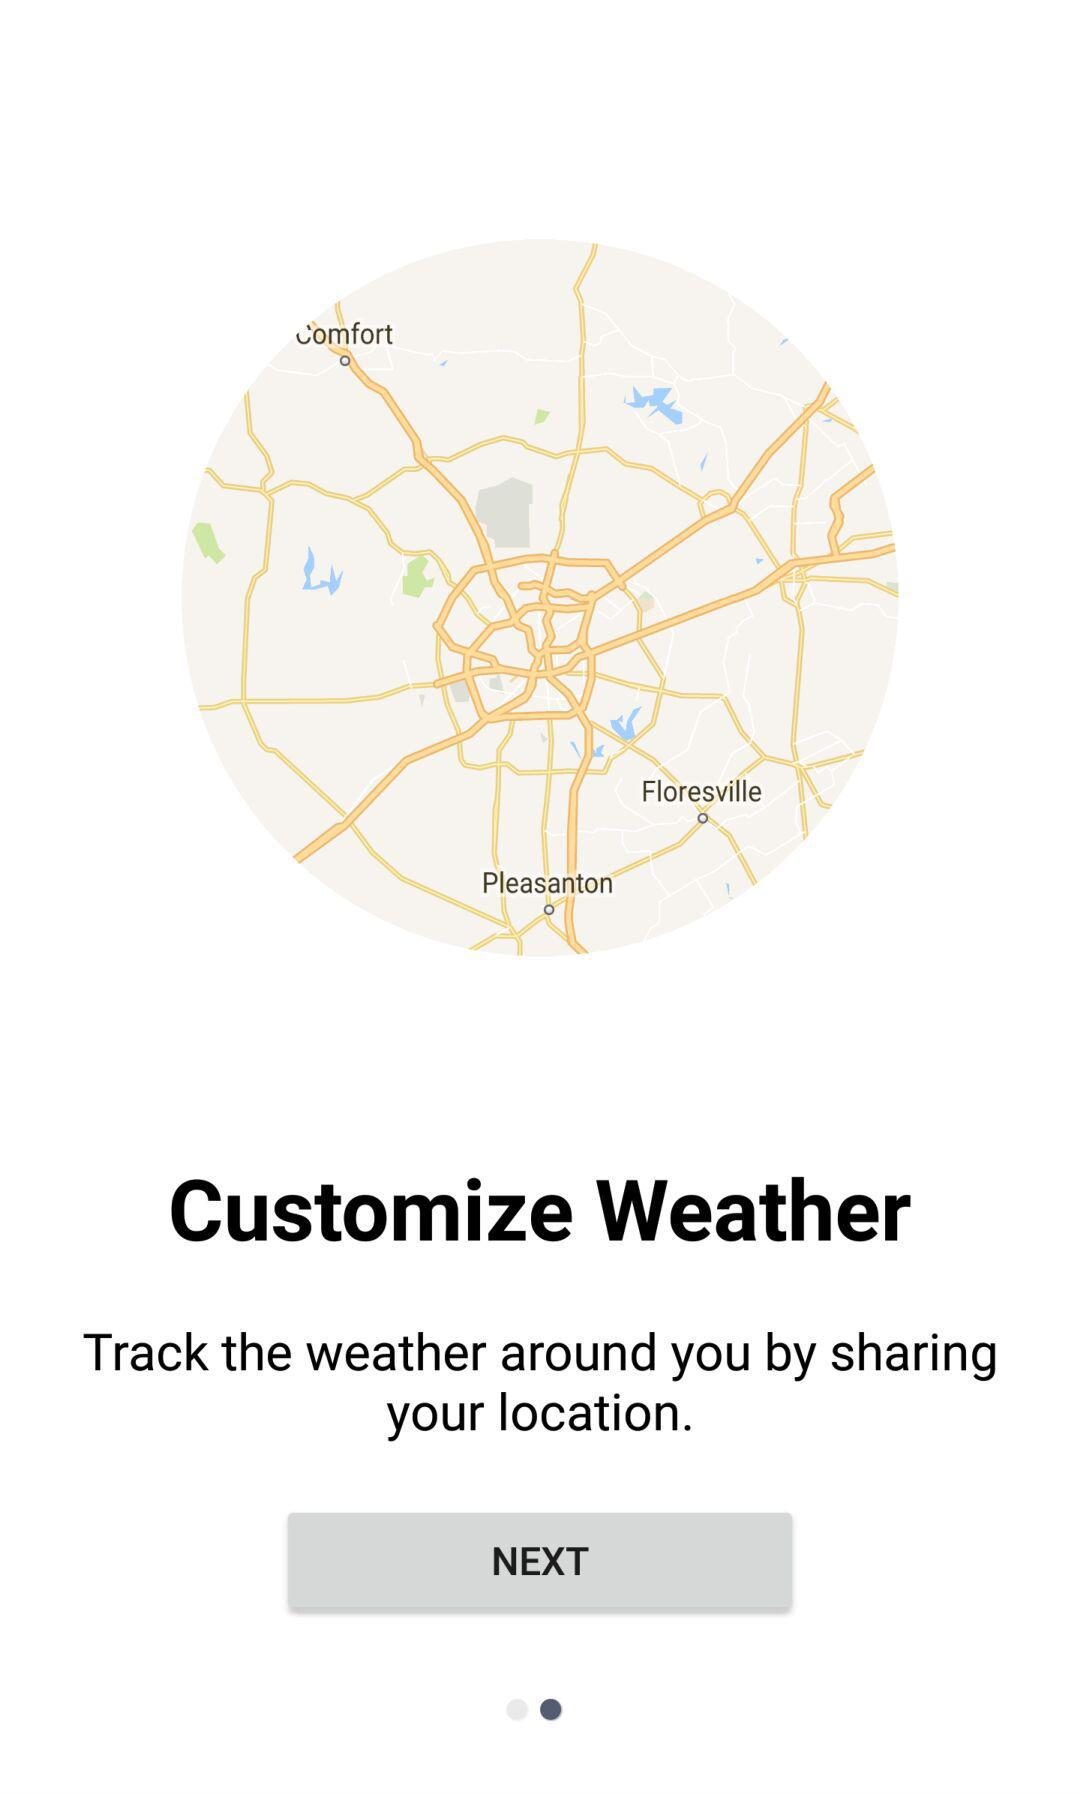Image: (181, 240, 899, 959)
PageIndicator: (505, 1697, 562, 1722)
Text: (83, 1331, 995, 1442), (172, 1176, 912, 1243)
TextButton: (288, 1512, 793, 1615)
